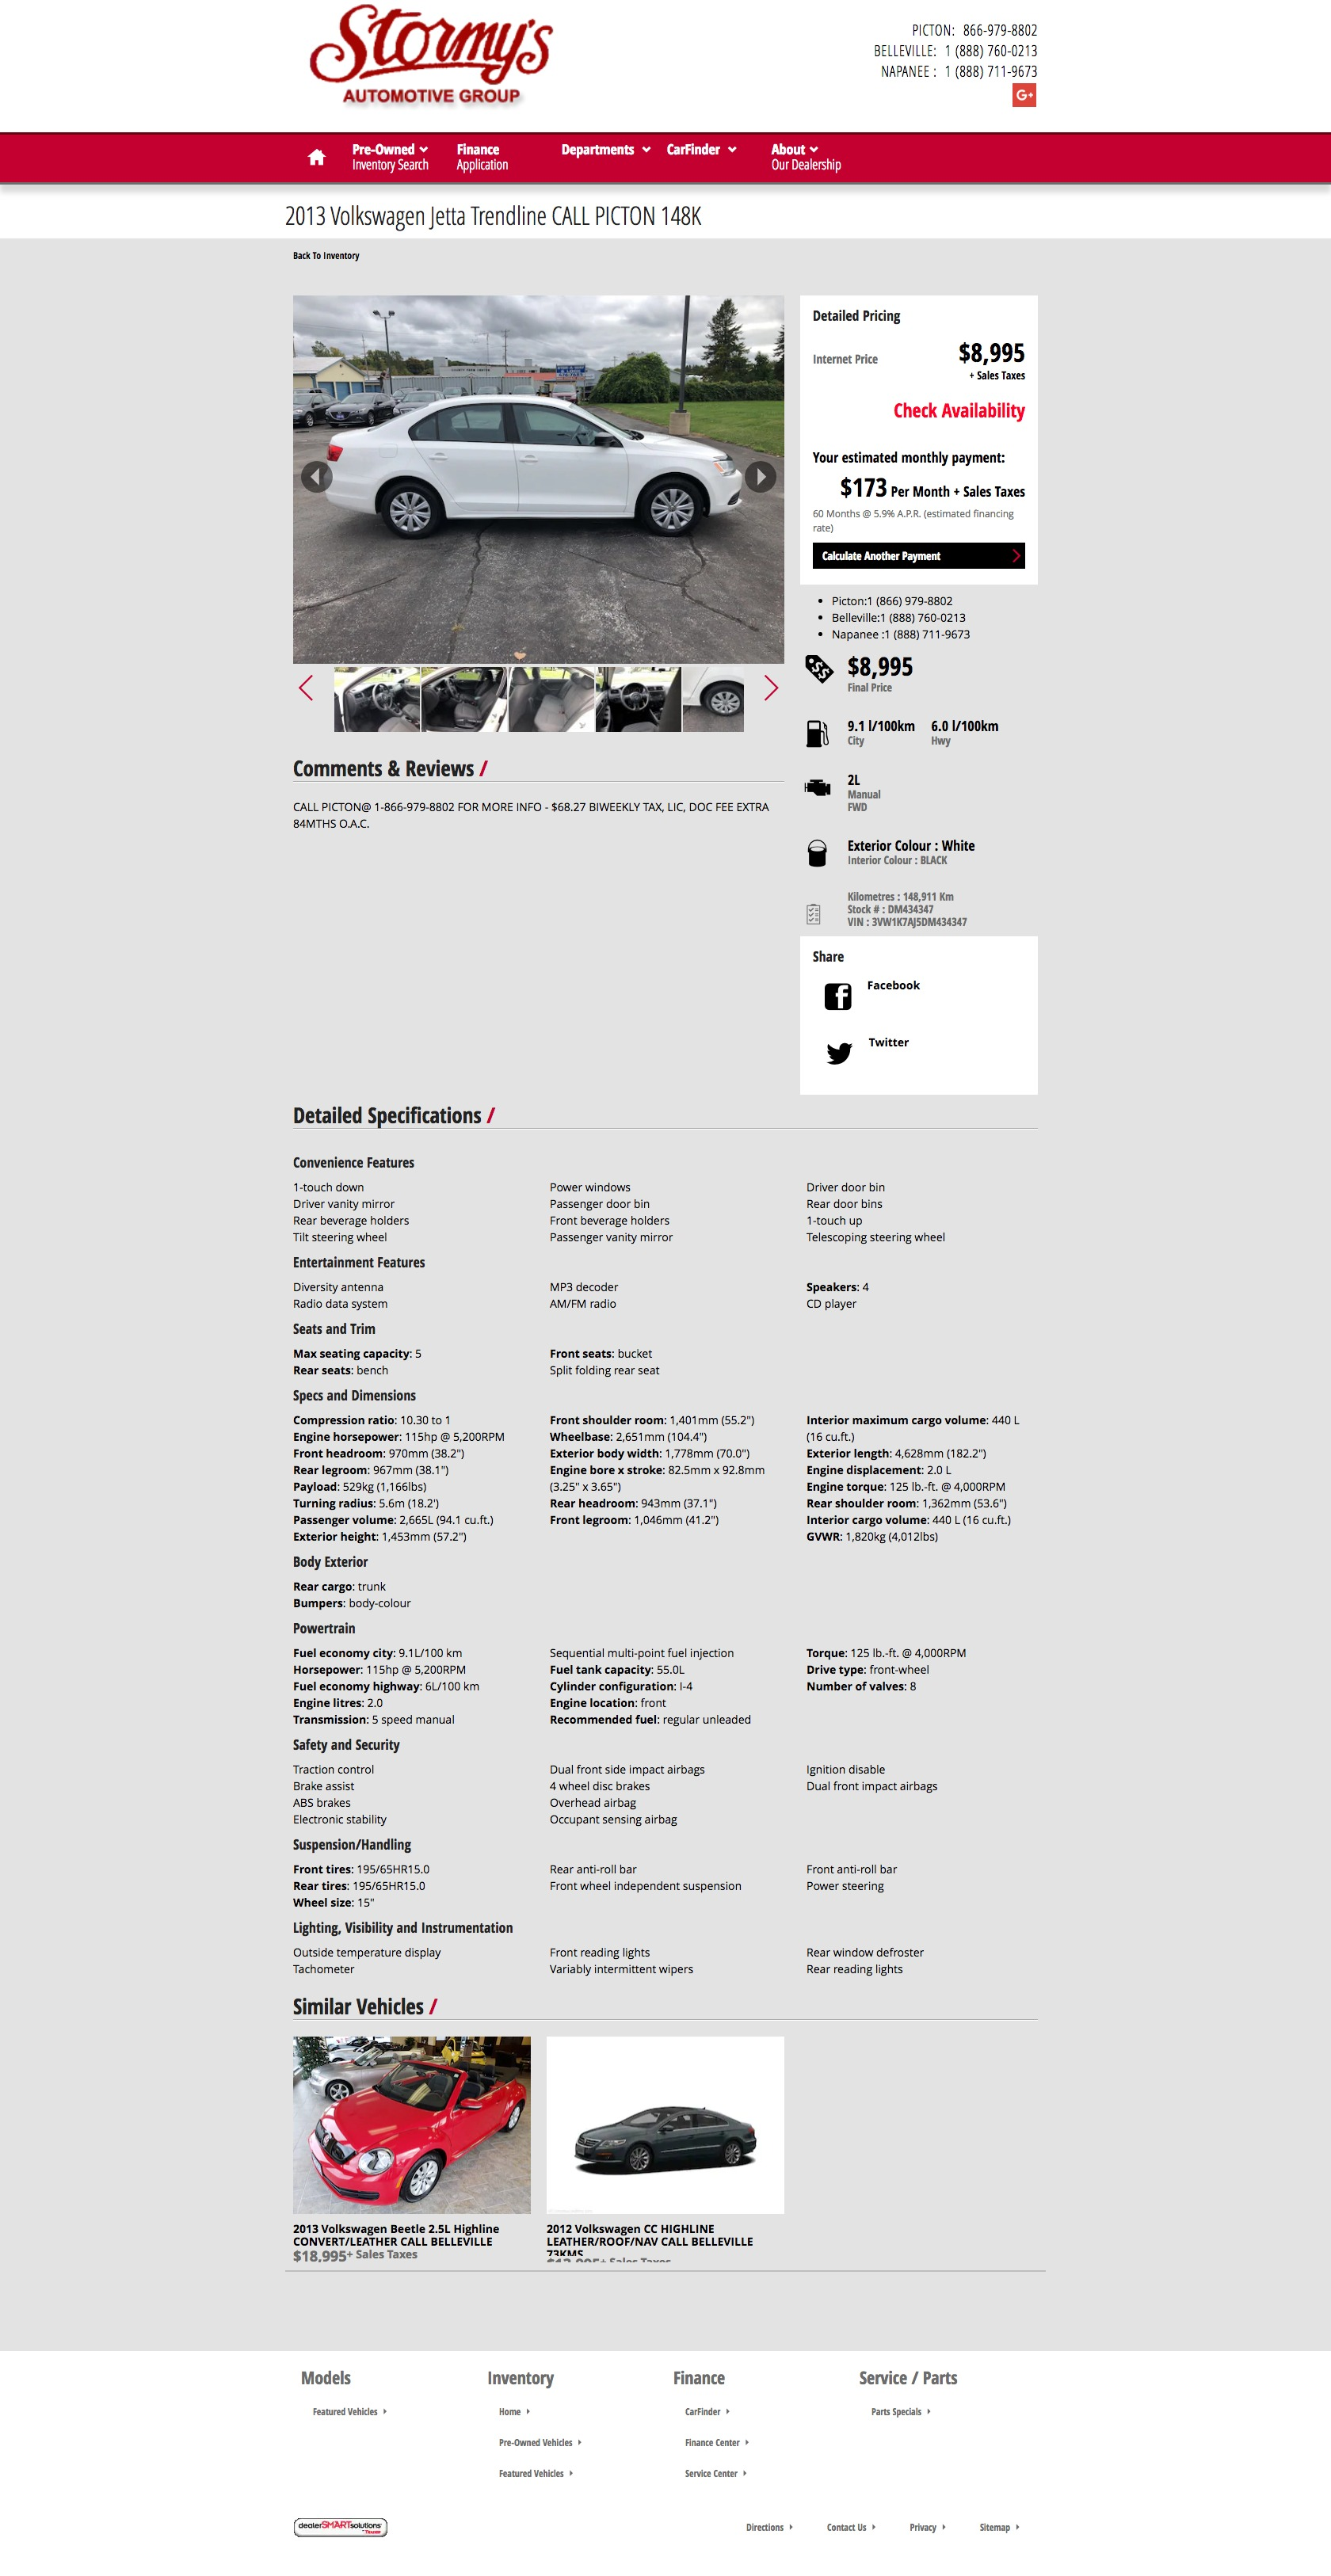car: (762, 675, 783, 704)
